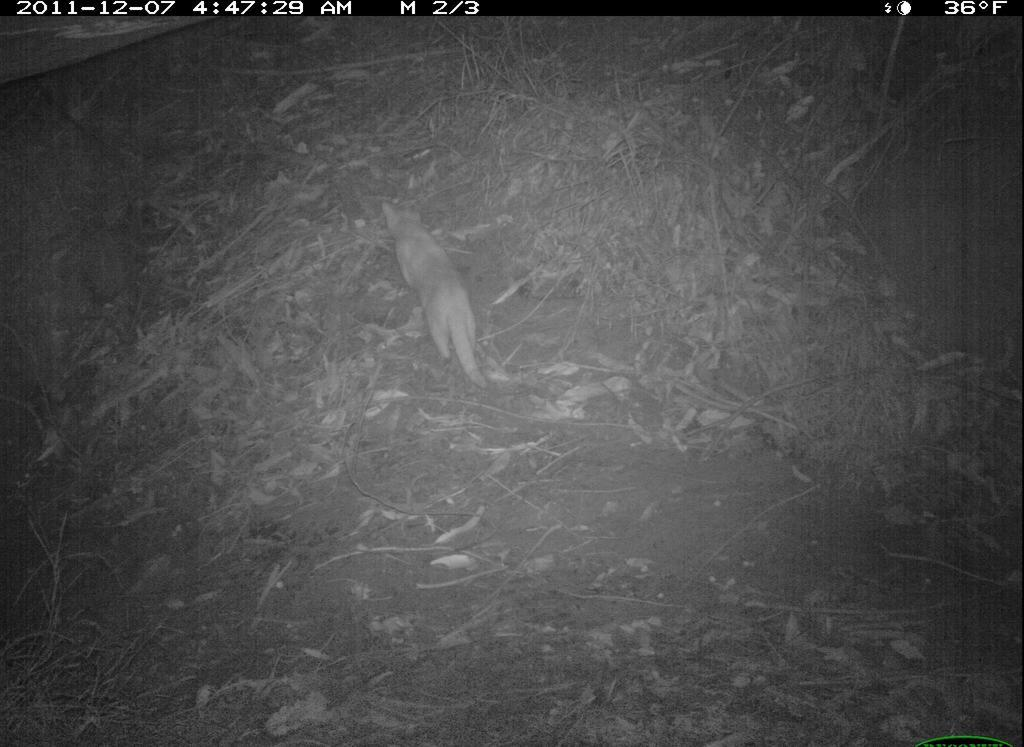cat: (377, 191, 505, 408)
